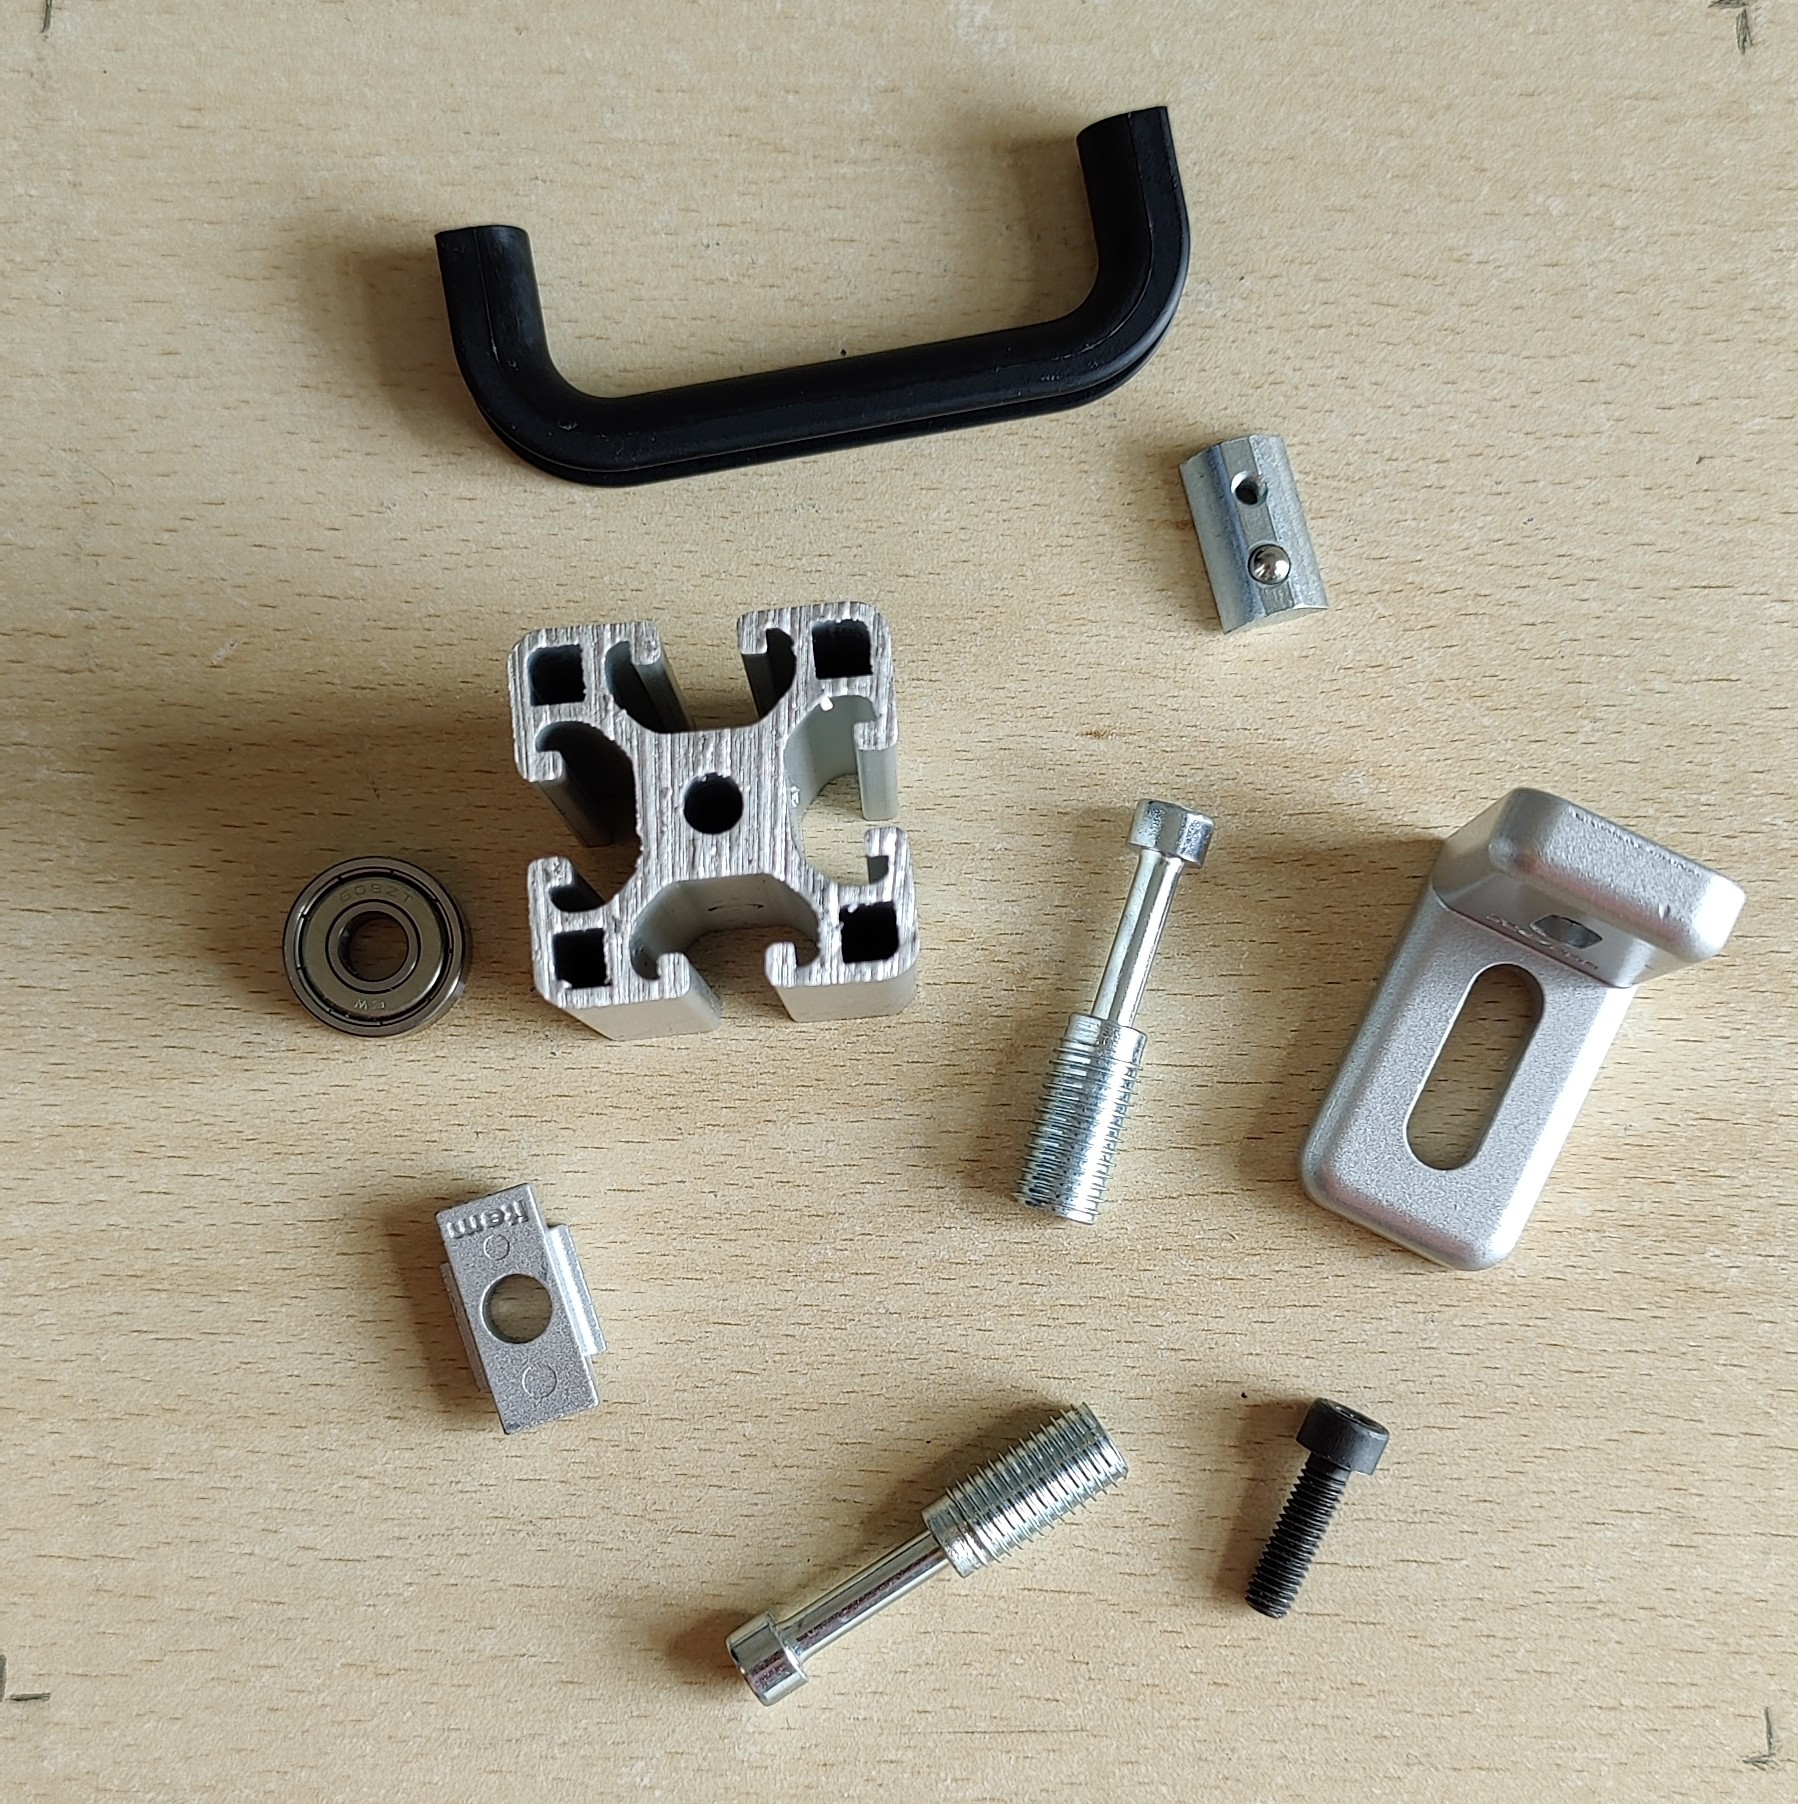Aluminium Extension: (502, 597, 920, 1044)
Ball Bearing: (280, 853, 473, 1042)
Multiwinkel: (1297, 785, 1749, 1274)
Pull Handle: (430, 104, 1194, 491)
Shoulder Socket Head Cap Screw: (718, 1397, 1130, 1710), (1009, 797, 1217, 1230)
Socket Head Cap Screw: (1243, 1394, 1391, 1623)
T Nut Square: (430, 1179, 606, 1435)
T Spring Nut: (1177, 431, 1332, 637)
